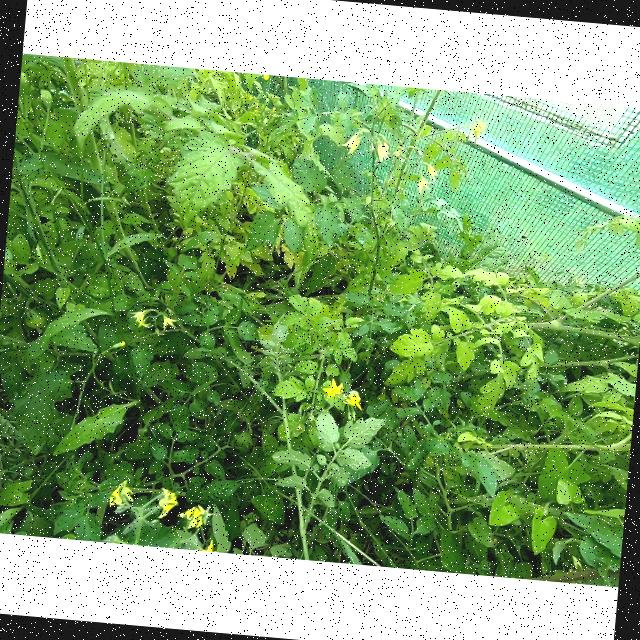Flowers: (175, 501, 214, 529), (152, 486, 176, 520), (107, 478, 135, 507), (341, 388, 367, 411), (340, 130, 362, 156), (321, 377, 343, 402), (466, 120, 486, 146), (130, 305, 151, 328), (420, 160, 441, 182), (157, 312, 180, 332), (412, 174, 433, 195), (375, 136, 389, 164), (392, 145, 406, 159)
